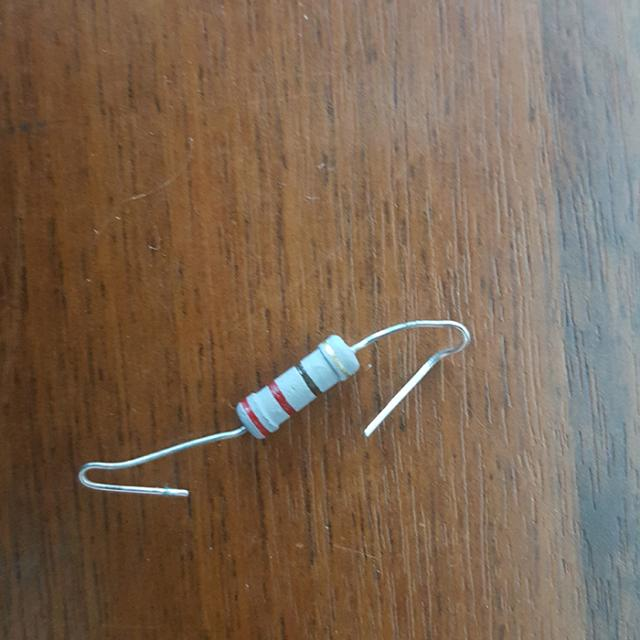brown: (297, 363, 323, 395)
gold: (319, 344, 347, 379)
red: (241, 398, 270, 435), (267, 380, 295, 414)
resistor: (215, 316, 373, 463)
